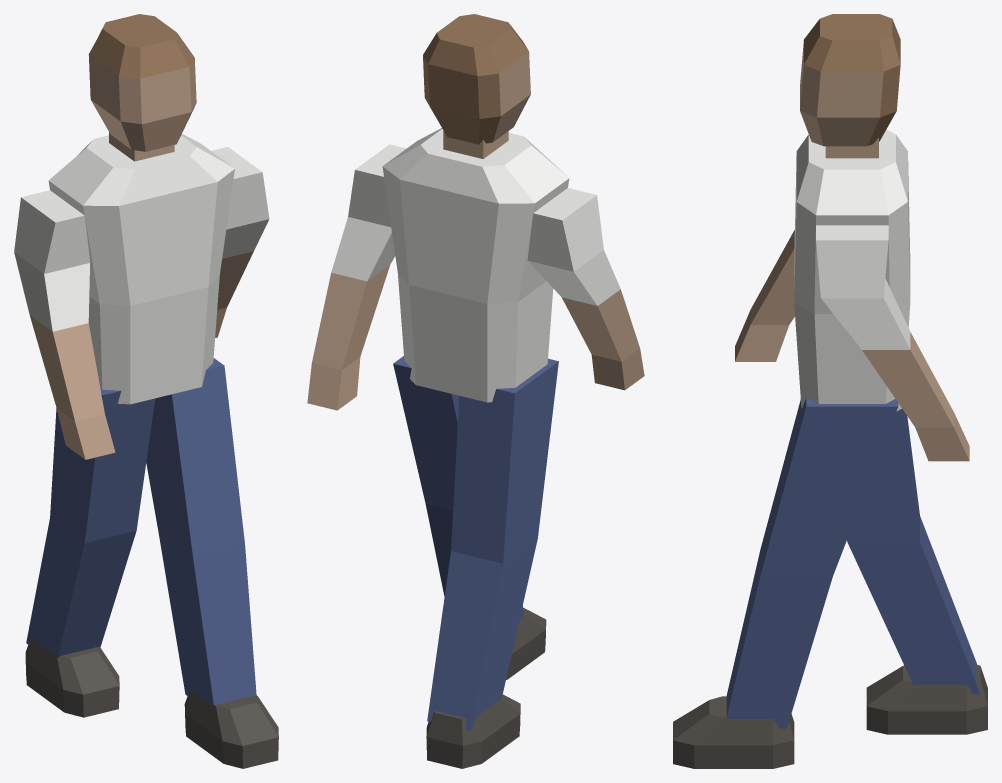
The model's file is pedestrian_1_left.fbx.
The picture shows the model from 3 angles, left to right: view 1: azimuth 30°, elevation 25°; view 2: azimuth 150°, elevation 25°; view 3: azimuth 270°, elevation 25°; orthographic projection. The views are drawn at different scales.
Parts seen in each view (by area): view 1: pedestrian_1_left; view 2: pedestrian_1_left; view 3: pedestrian_1_left.
Part boxes in pixels (bbox=[...]): pedestrian_1_left: bbox=[14, 14, 278, 768]; pedestrian_1_left: bbox=[307, 14, 644, 768]; pedestrian_1_left: bbox=[673, 14, 987, 768].
Bounding box in the file's own units: 0.584 × 1.62 × 0.65.
